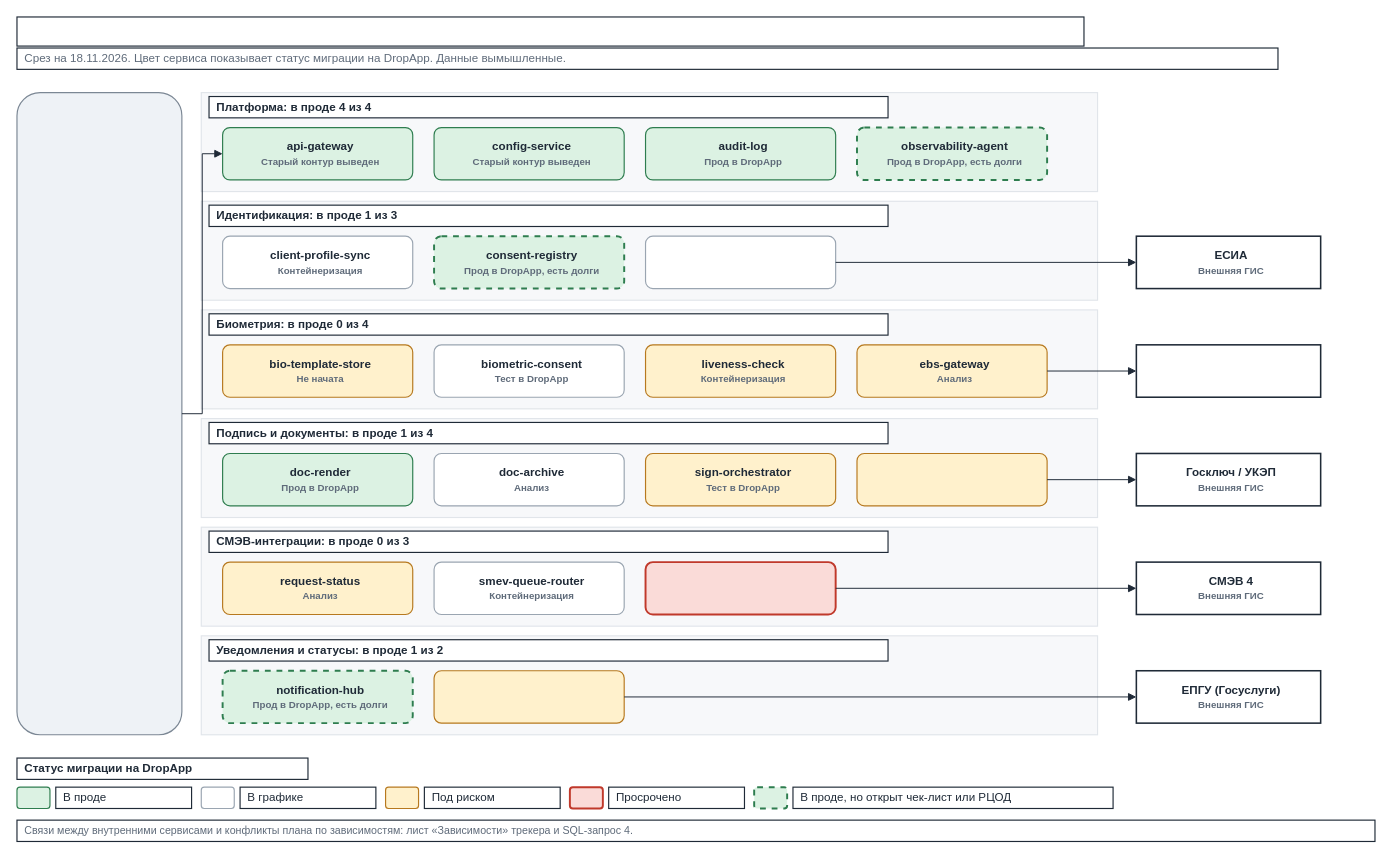
Image size: 1393x859. Some labels were removed from this diagram. The shapes that lost their labels are listed below. From the top down, each one's centre as x and y in pixels, then its label:
the point at 550,31: Карта команд и систем кластера госинтеграций
the point at 740,262: esia-auth-adapter Тест в DropApp
the point at 1228,371: ЕБС (биометрия) Внешняя ГИС
the point at 99,413: Продукты банка СберБанк Онлайн, СберБизнес, офисы
the point at 951,479: ukep-adapter Контейнеризация
the point at 740,588: smev-adapter Контейнеризация
the point at 528,696: gosuslugi-status-push Тест в DropApp
